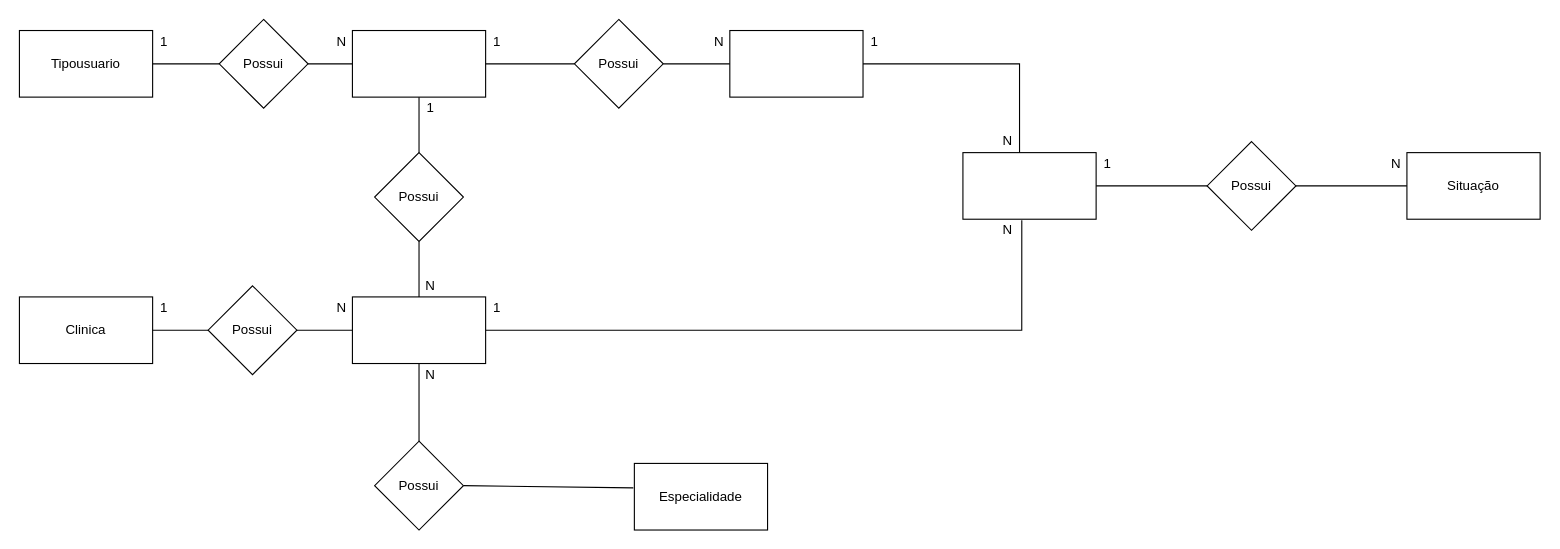
The diagram is 1560 pixels wide and 549 high, and some of its shapes have lost their labels. Here are the shapes that lost their labels. From the top down, the centre of each, then its label:
At point (418, 63): "Usuario".
At point (796, 63): "Paciente".
At point (1029, 185): "Consulta".
At point (418, 330): "Médico".
